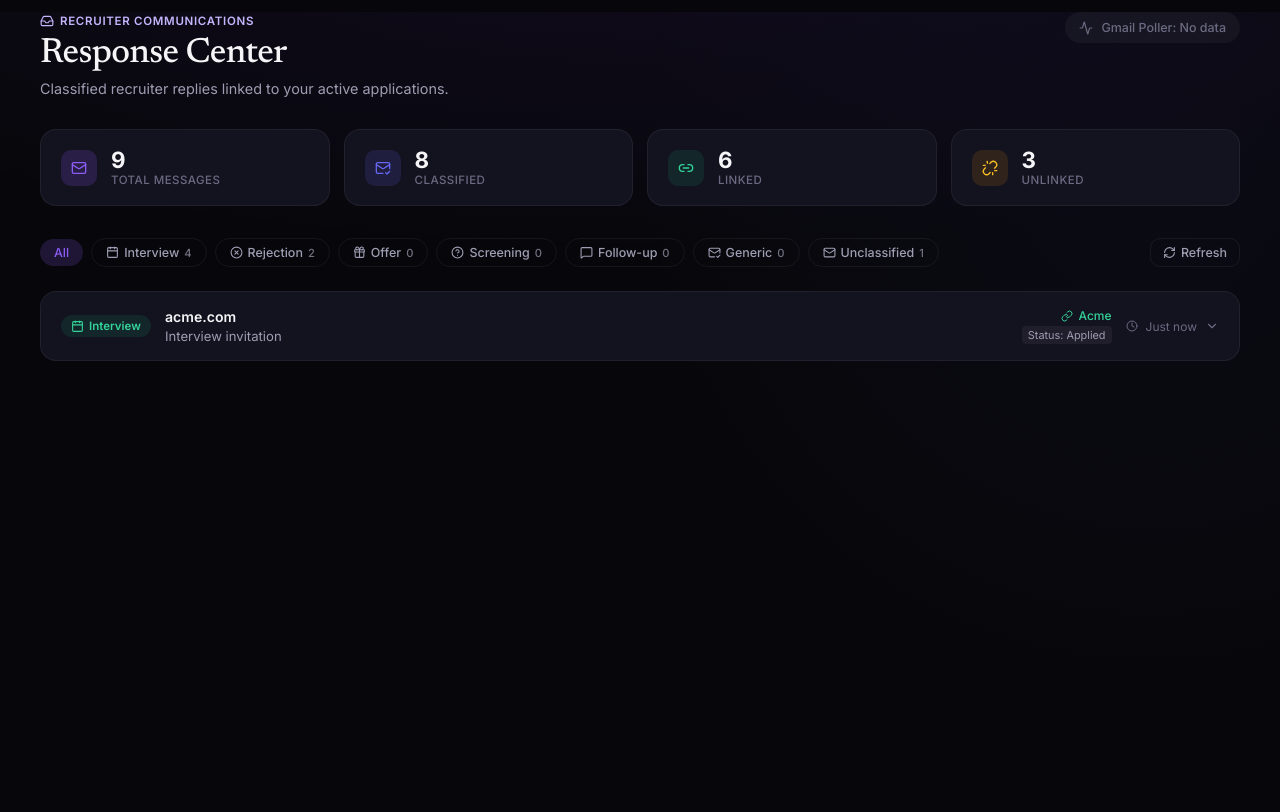
Test case: ResponseCenterPlaceholder › re-drafts with Gemini via api.draftReply and updates the textarea without approving
This screenshot has width=1280, height=812.
Click the text "Interview invitation": (223, 336) top-left (165, 328), bottom-right (282, 344)
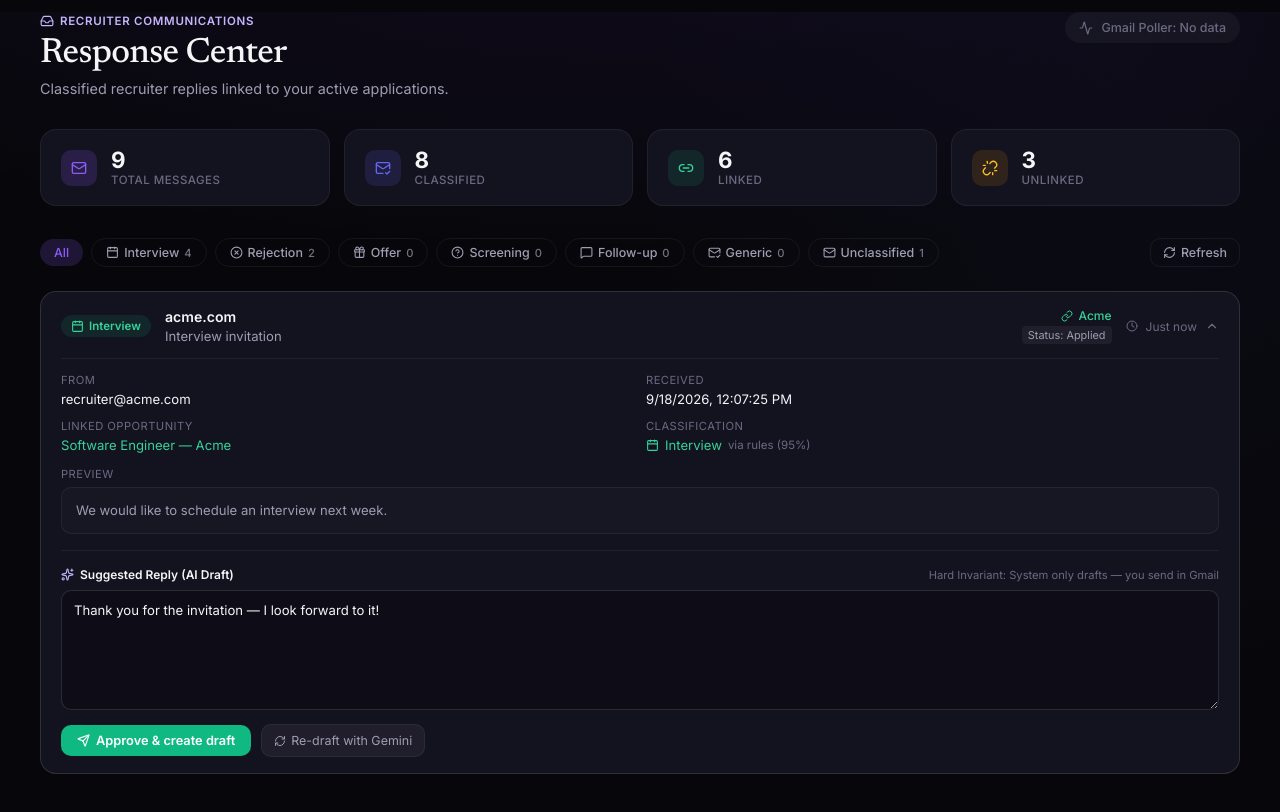
Check: the button "Re-draft with Gemini" is shown
Click the button "Re-draft with Gemini": (343, 741) top-left (261, 724), bottom-right (425, 757)
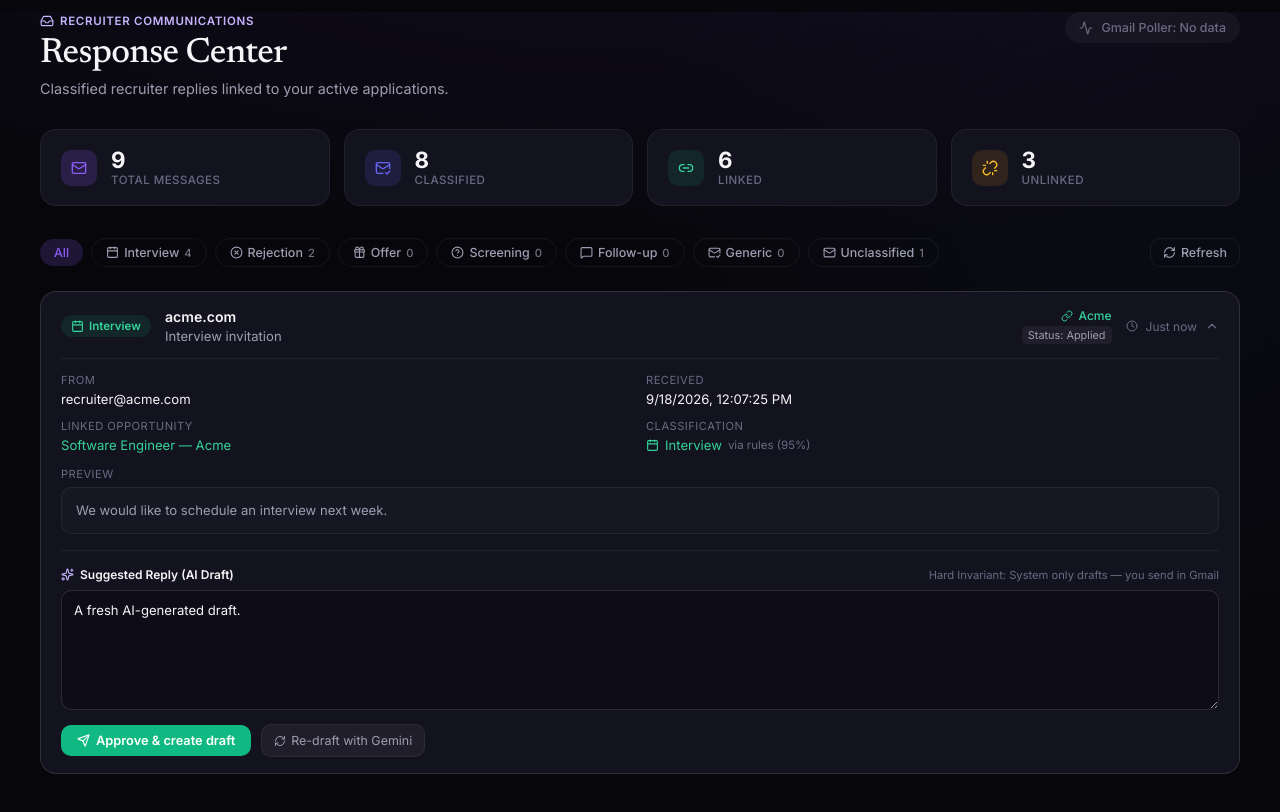
Check: the text box holds "A fresh AI-generated draft.", box top-left (61, 590), bottom-right (1219, 710)
